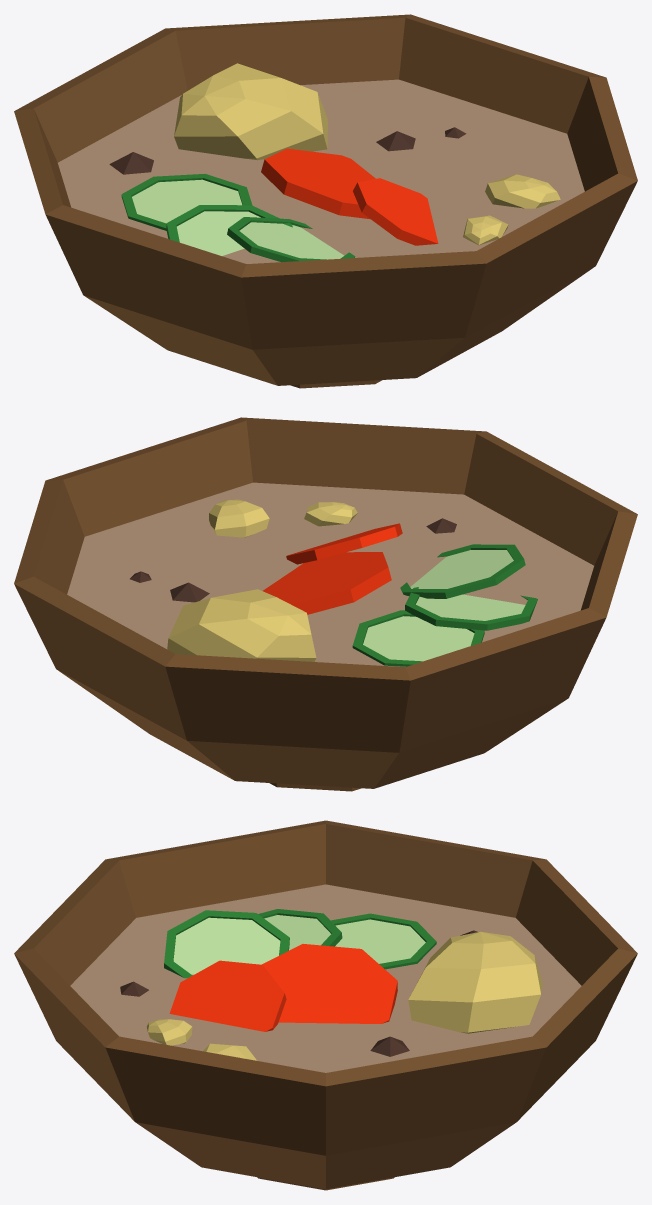
Rendered from vegetSoup.glb.
3 views of the same model, one above another, from view 1: azimuth 30°, elevation 25°; view 2: azimuth 150°, elevation 25°; view 3: azimuth 270°, elevation 25° (orthographic). The views are drawn at different scales.
Visible parts, largest first — view 1: Circle, Circle.001, Sphere.001, Cylinder.004, Cylinder.001, Icosphere.003; view 2: Circle, Circle.001, Cylinder.004, Sphere.001, Cylinder.001, Icosphere.003; view 3: Circle, Circle.001, Cylinder.001, Sphere.001, Cylinder.004, Icosphere.003.
Part boxes in pixels (x1,y1,x2,y2): Circle: (14, 14, 637, 388); Circle.001: (58, 79, 584, 263); Sphere.001: (174, 63, 560, 245); Cylinder.004: (121, 174, 355, 262); Cylinder.001: (261, 148, 438, 245); Icosphere.003: (109, 127, 466, 174); Circle: (14, 417, 637, 791); Circle.001: (67, 482, 593, 666); Cylinder.004: (352, 544, 537, 666); Sphere.001: (167, 499, 357, 661); Cylinder.001: (263, 523, 402, 614); Icosphere.003: (130, 518, 456, 602); Circle: (14, 820, 637, 1190); Circle.001: (70, 884, 581, 1072); Cylinder.001: (169, 944, 397, 1031); Sphere.001: (147, 931, 542, 1060); Cylinder.004: (164, 909, 436, 978); Icosphere.003: (120, 930, 477, 1056).
Size of the model in its own units: 2.46 by 0.8765 by 2.44.
